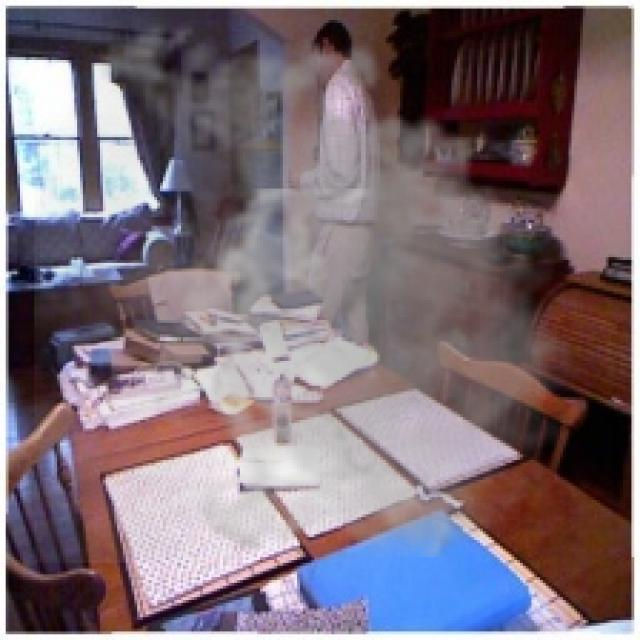Smoke: (34, 6, 597, 563)
